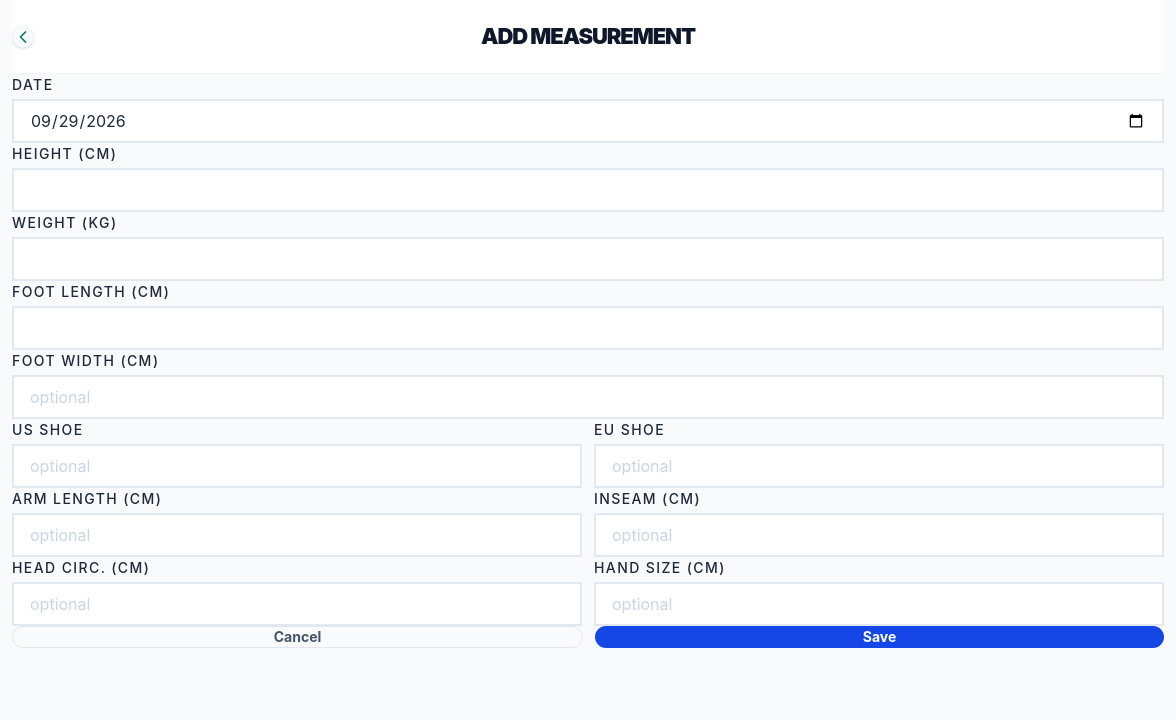
Test case: EditMeasurementEntryScreen › add mode › validation › shows error when weight is zero
Type "142" into the number field labelled "Height (cm)".
click(588, 190); type("142")  # box [12,168,1164,212]
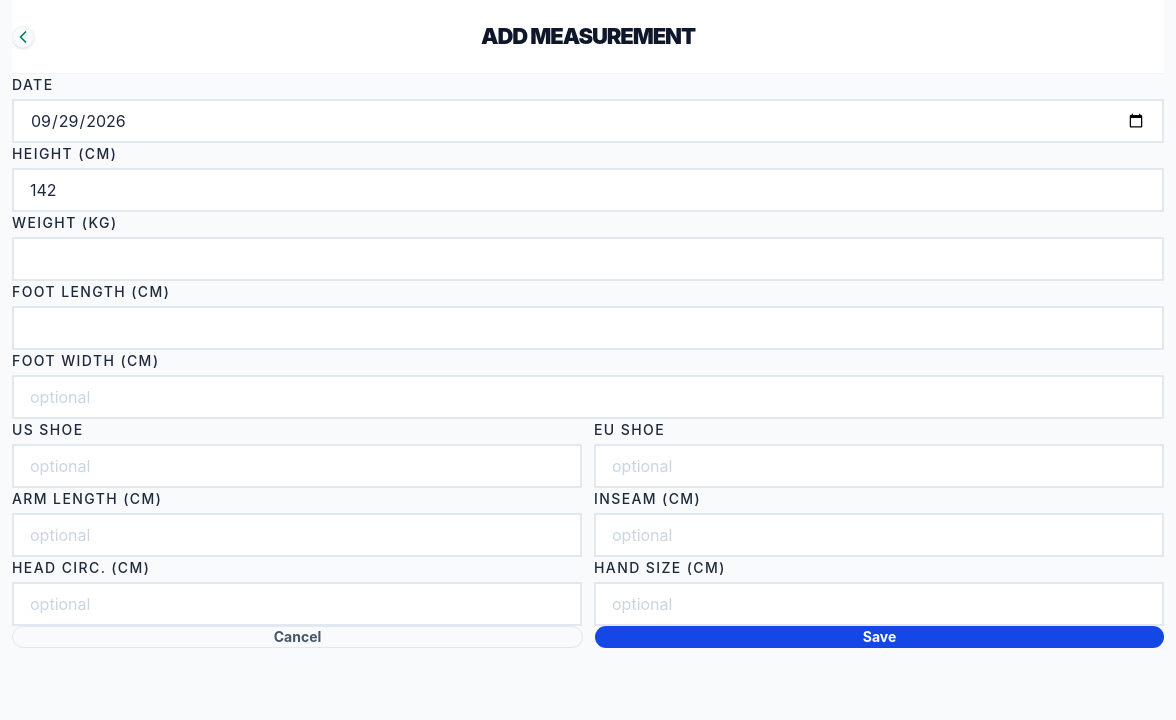
Click the button "Save".
click(880, 637)  # box [595,626,1164,648]
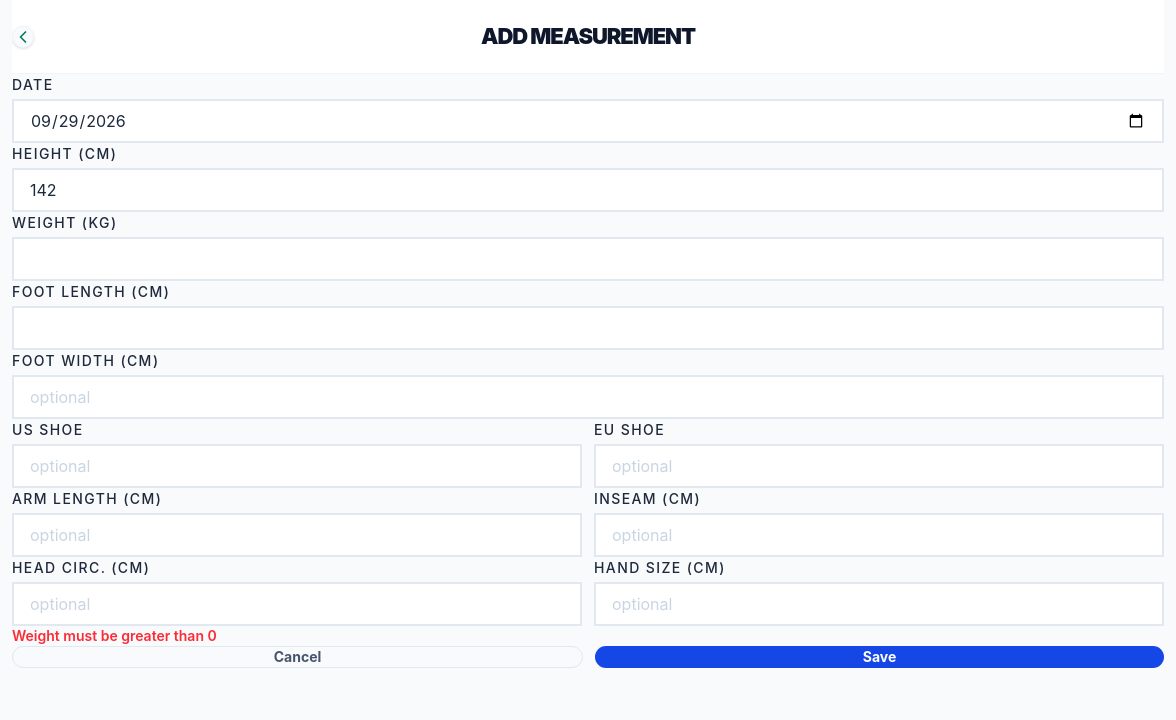
Check: the text "Weight must be greater than 0" is shown, box [12,627,217,644]
